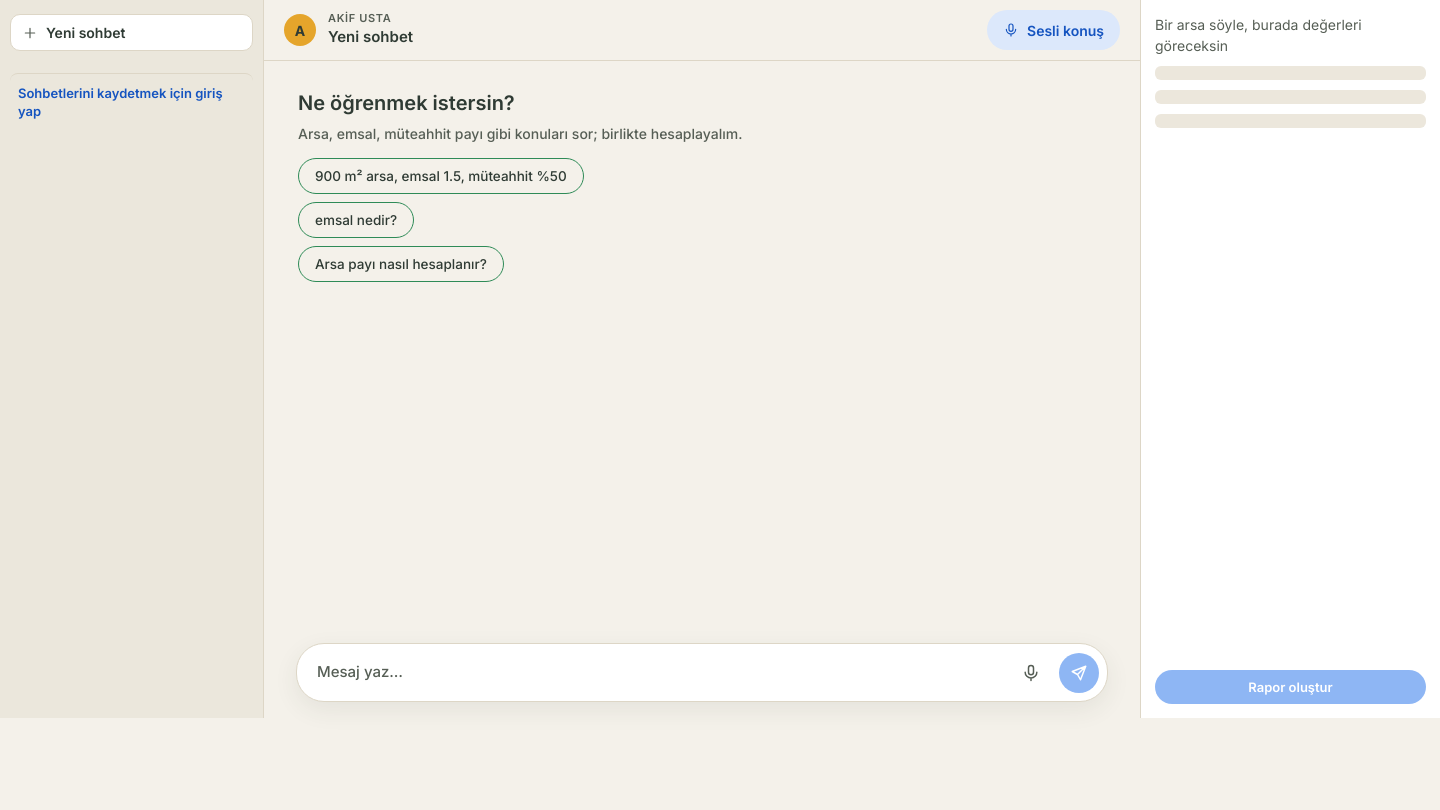
Test: istek gövdesi conversationId + history + userMessage içerir
The image size is (1440, 810).
Type "bir" into the text box at [660, 672], box [317,652,1003,693]
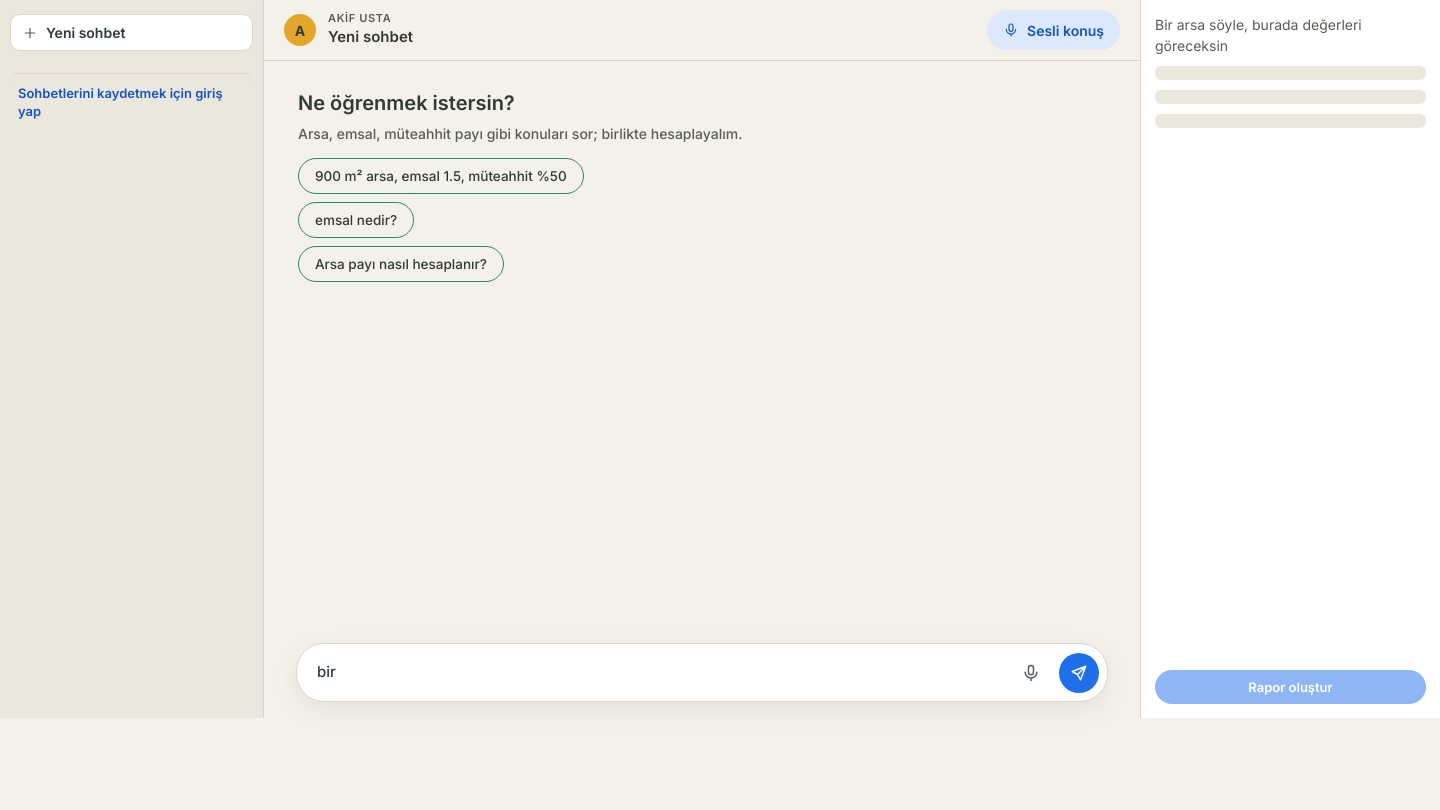
Submit the form, box [296,643,1108,702]
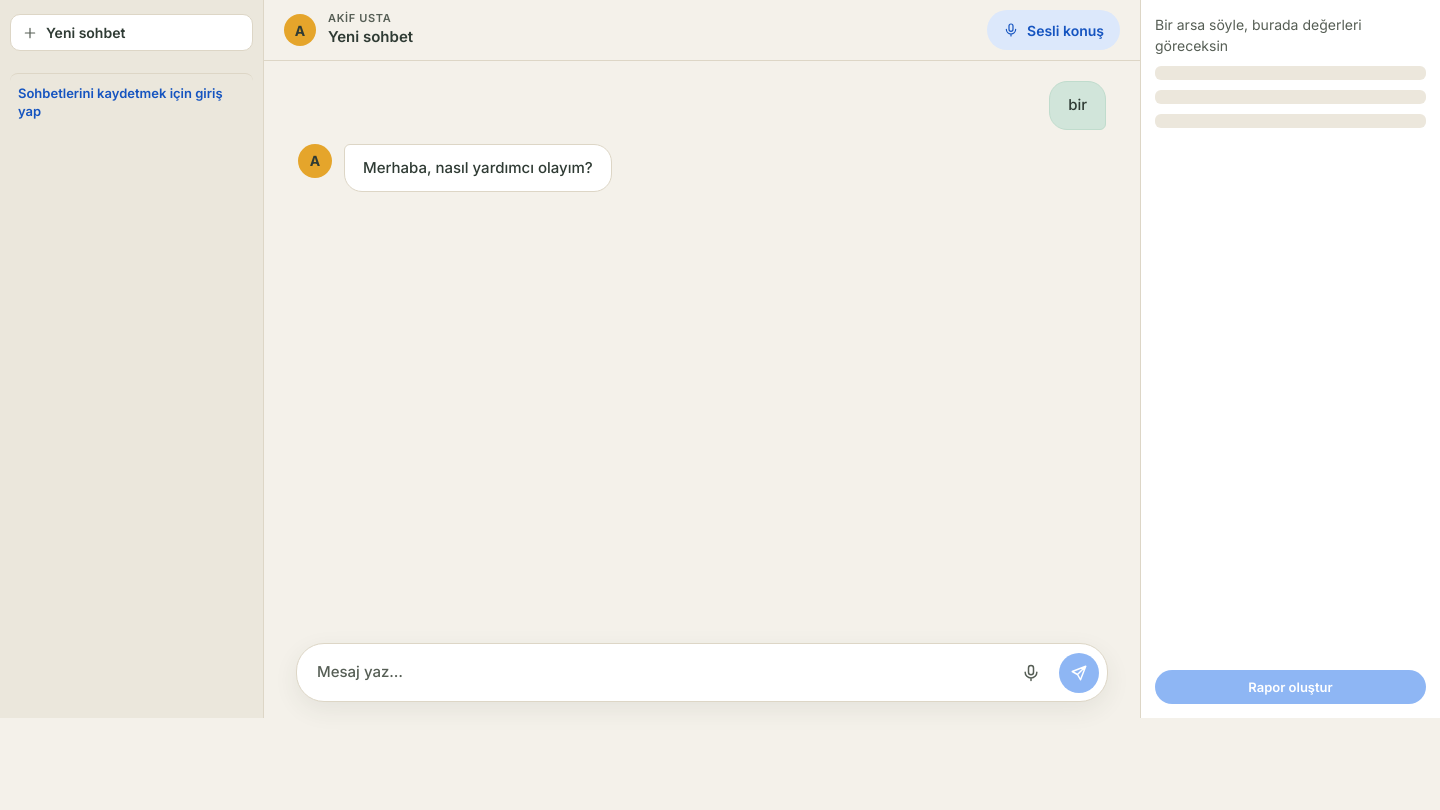
Check: the text "Merhaba, nasıl yardımcı olayım?" is shown, box [344,144,612,192]
Type "iki" into the text box at [660, 672], box [317,652,1003,693]
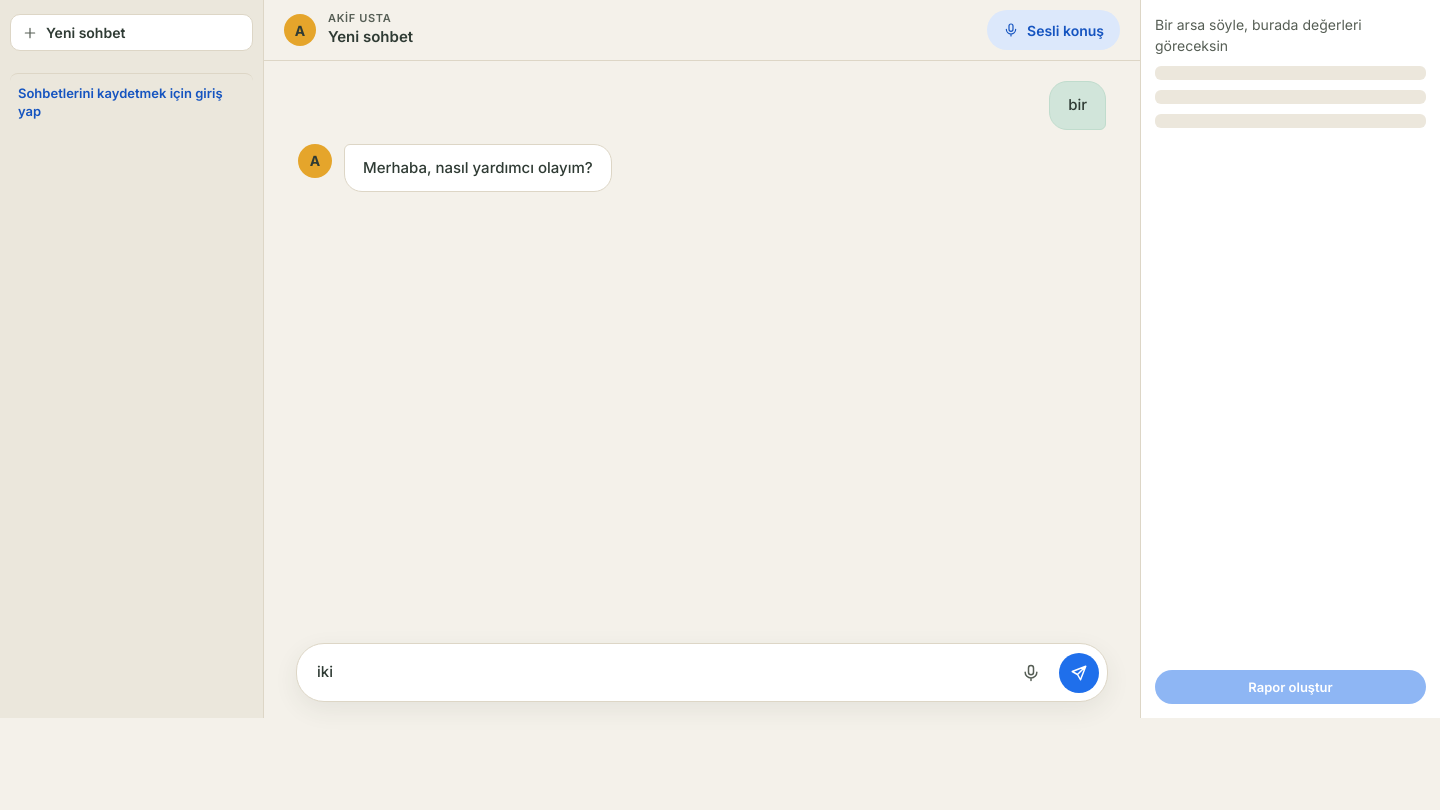
Submit the form, box [296,643,1108,702]
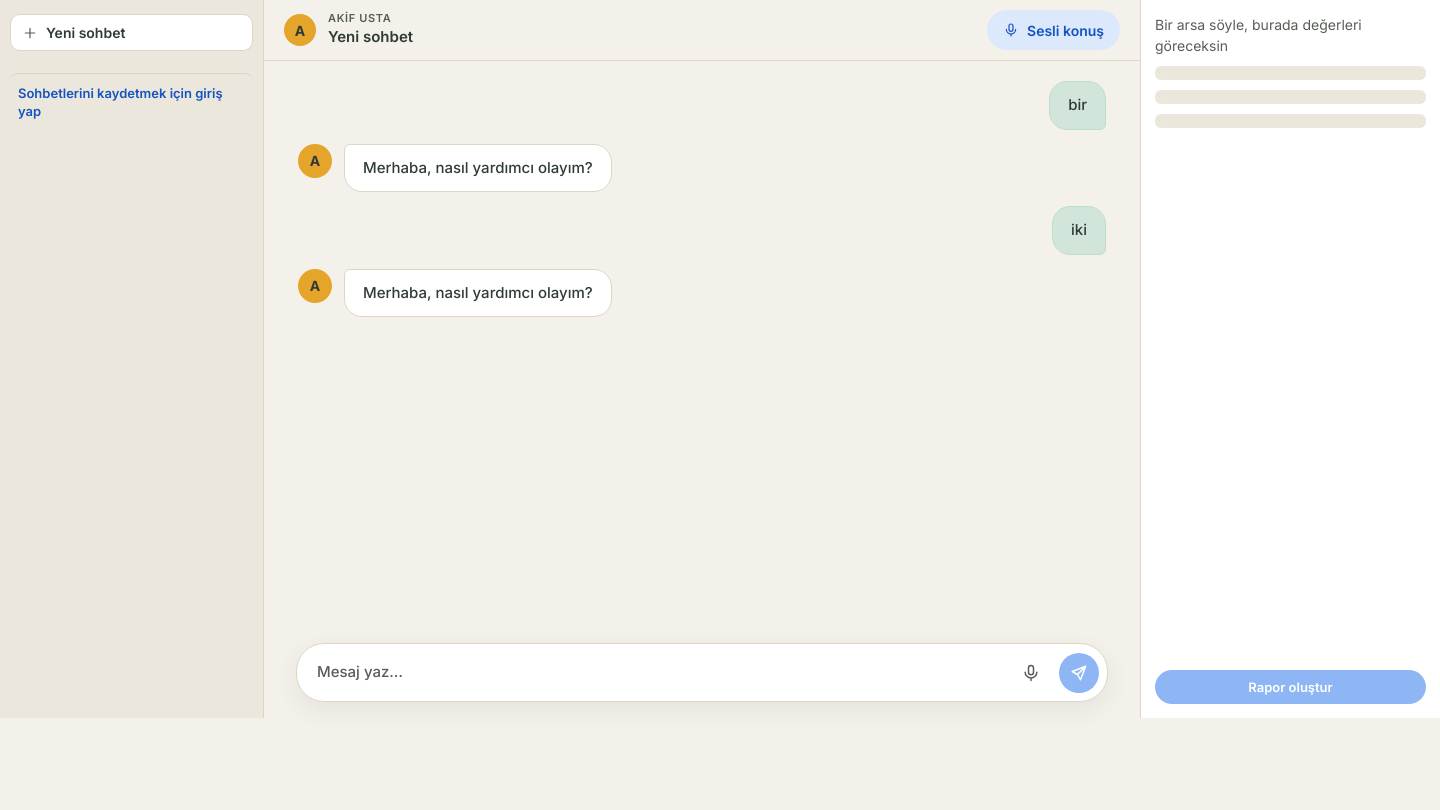
Check: the text "iki" is shown, box [1052,206,1106,254]
